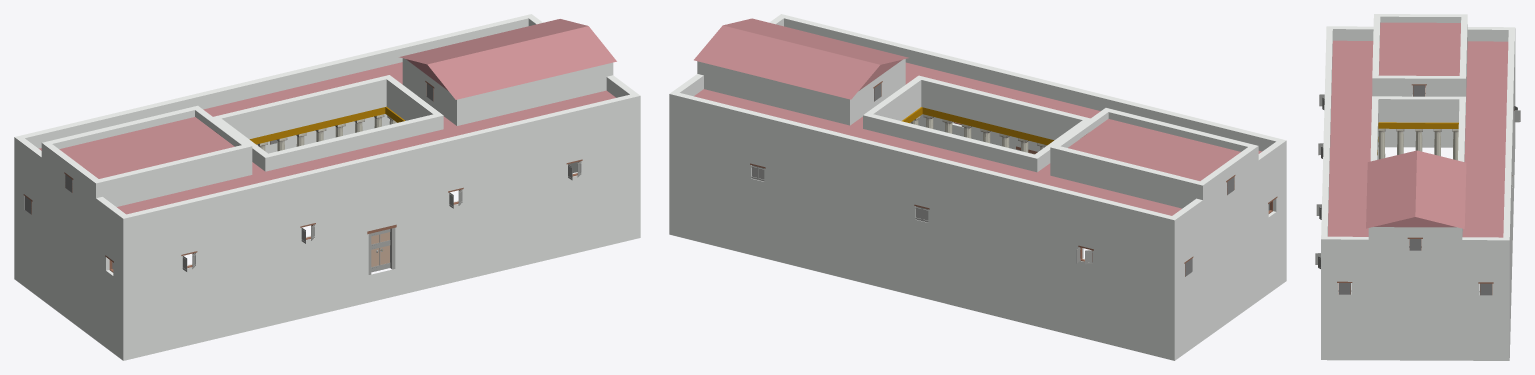
Rendered from LOD_Block_2_54.glb.
3 renders of one model, left to right at view 1: azimuth 30°, elevation 25°; view 2: azimuth 150°, elevation 25°; view 3: azimuth 270°, elevation 25°, orthographic. The views are drawn at different scales.
Parts seen in each view (by area): view 1: _1.3470; view 2: _1.3470; view 3: _1.3470.
Boxes of the visible parts, bbox=[...] form: _1.3470: bbox=[14, 14, 640, 360]; _1.3470: bbox=[669, 14, 1286, 360]; _1.3470: bbox=[1315, 14, 1520, 360].
Bounding box in the file's own units: 39.52 × 12.42 × 15.96.
Materials: 3 (3 with a texture image).
